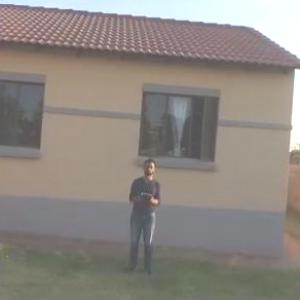follow: (120, 152, 164, 287)
